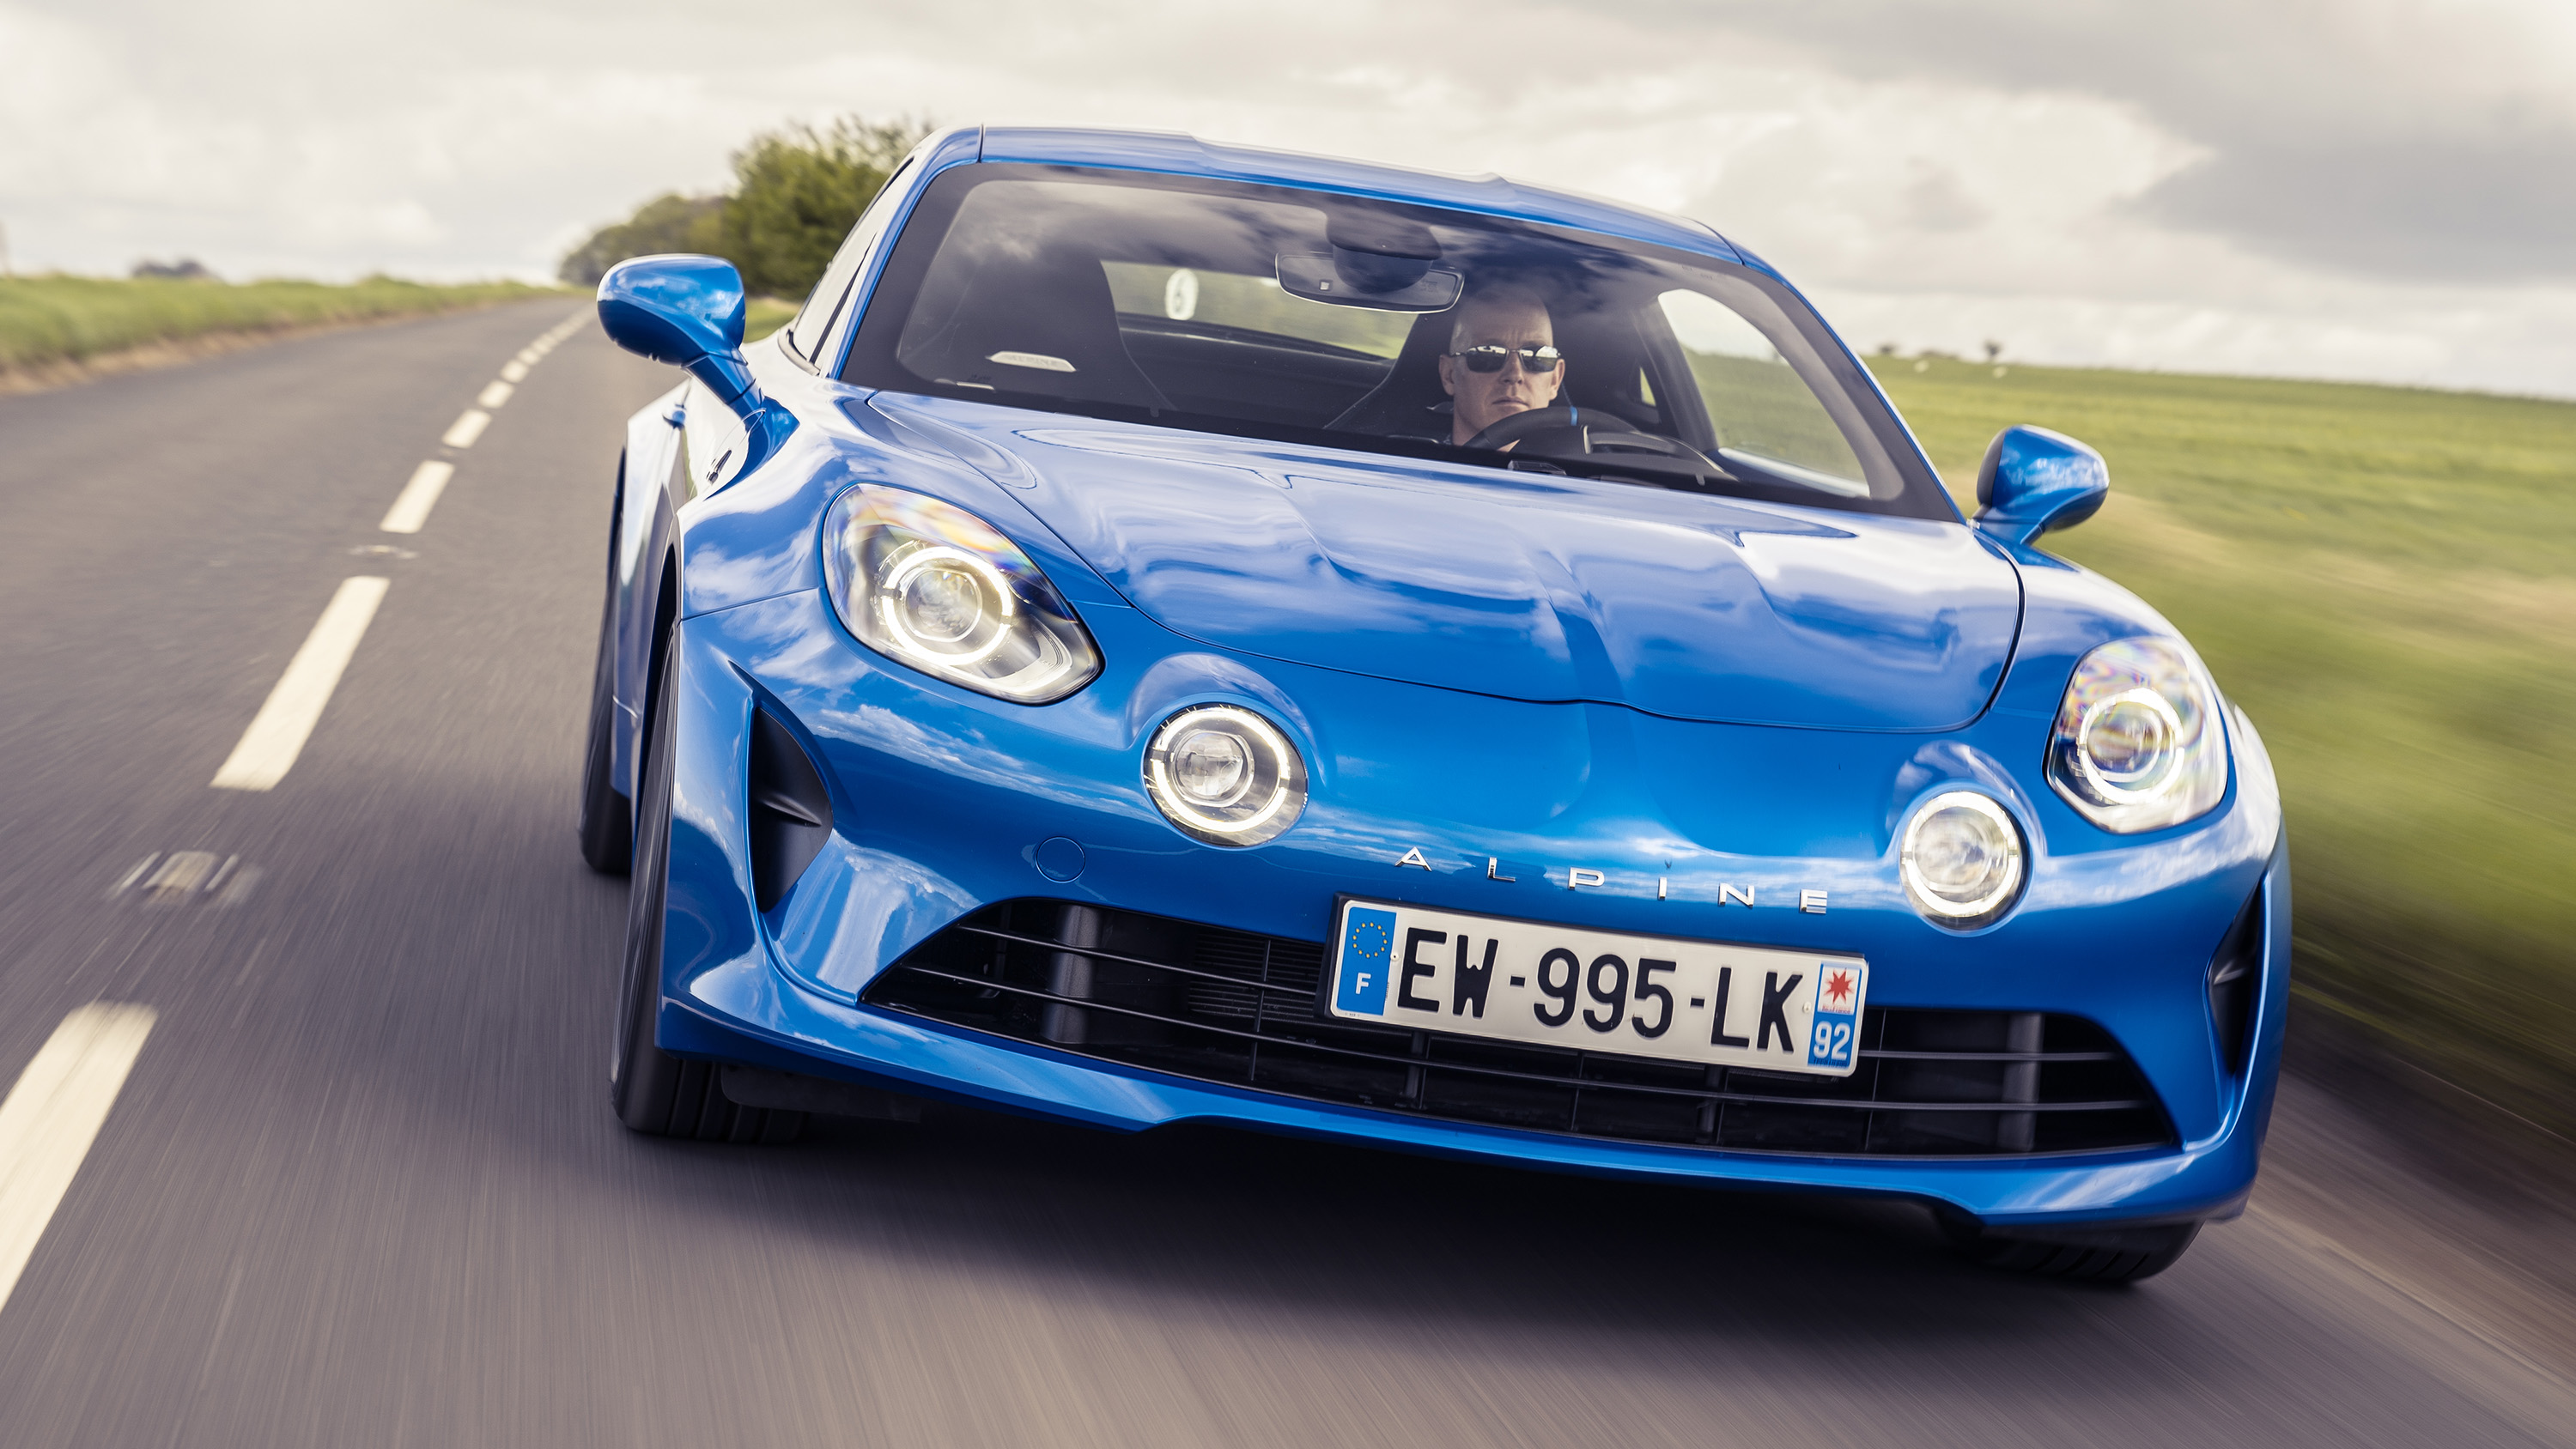car: (552, 106, 2307, 1359)
